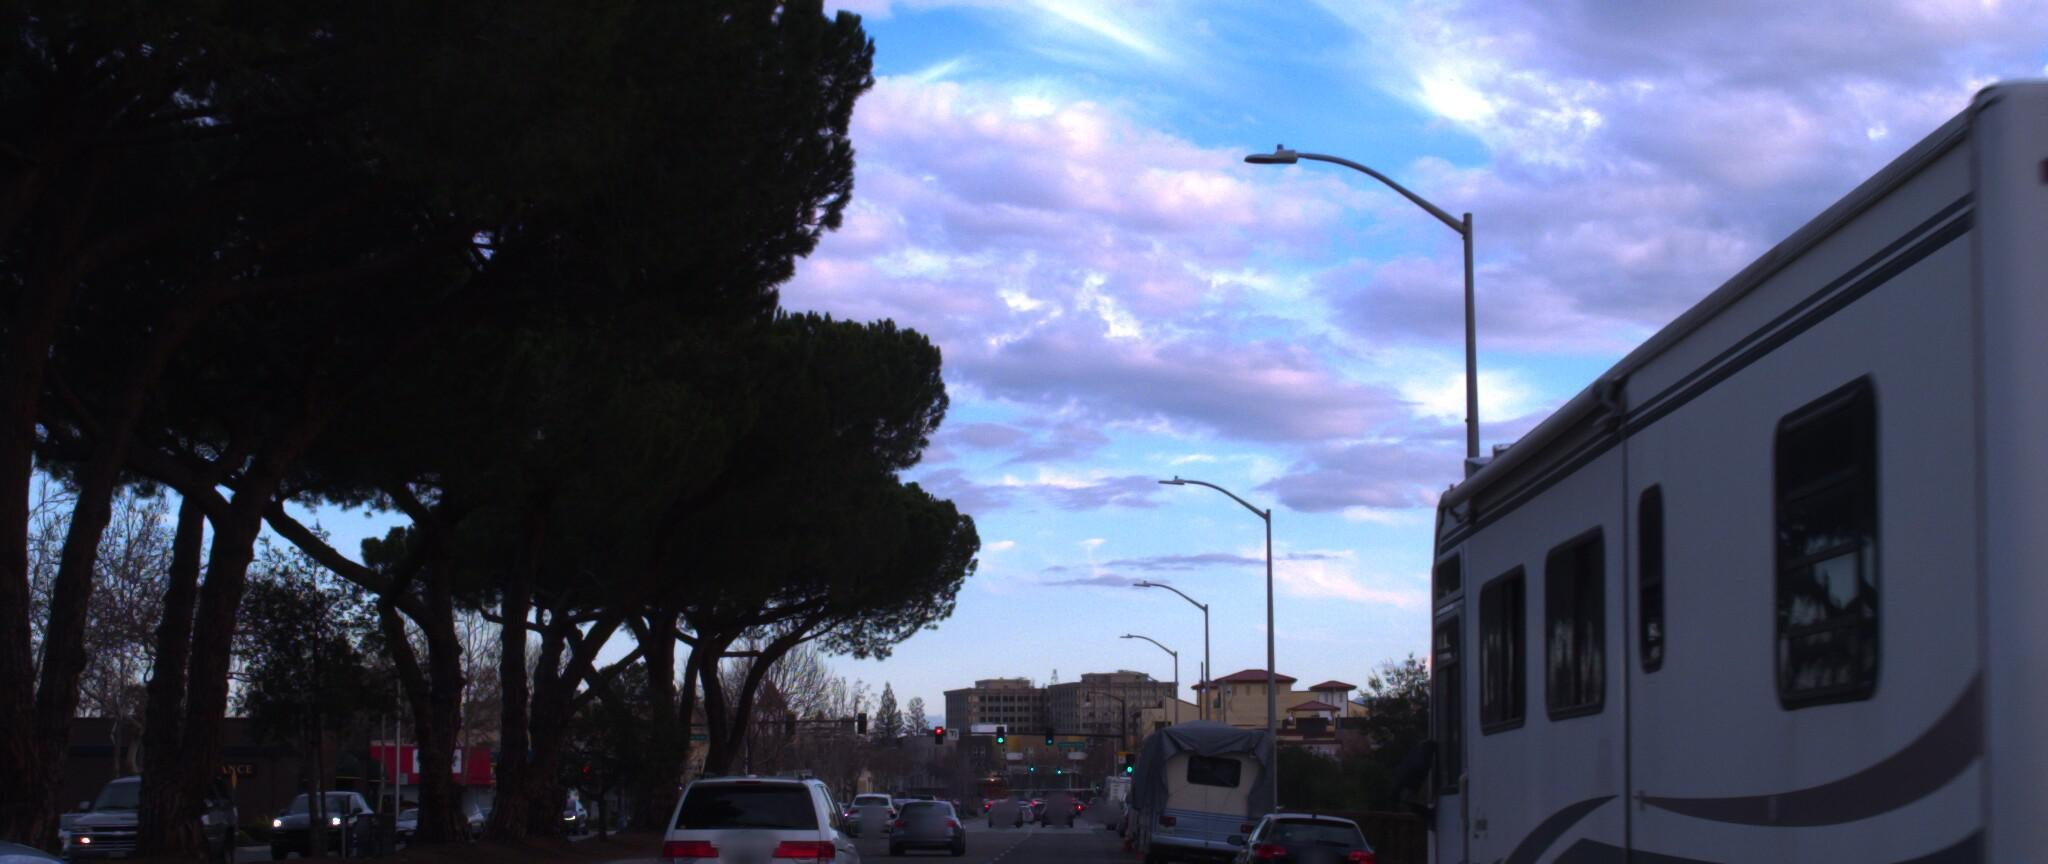bus: (1362, 0, 2048, 864)
car: (639, 754, 872, 864), (57, 771, 259, 864), (0, 804, 296, 864), (1211, 790, 1378, 864), (878, 762, 970, 831)
truck: (1127, 694, 1271, 856)
